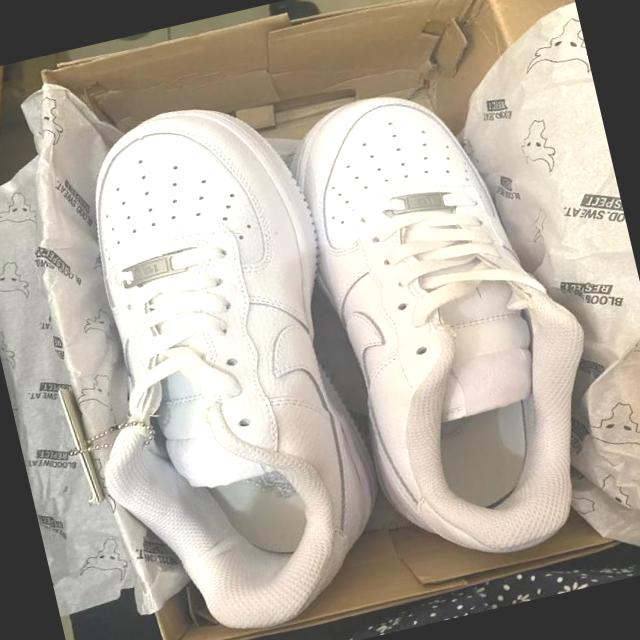nike_fake_airforce: (25, 84, 400, 640), (277, 59, 638, 622)
